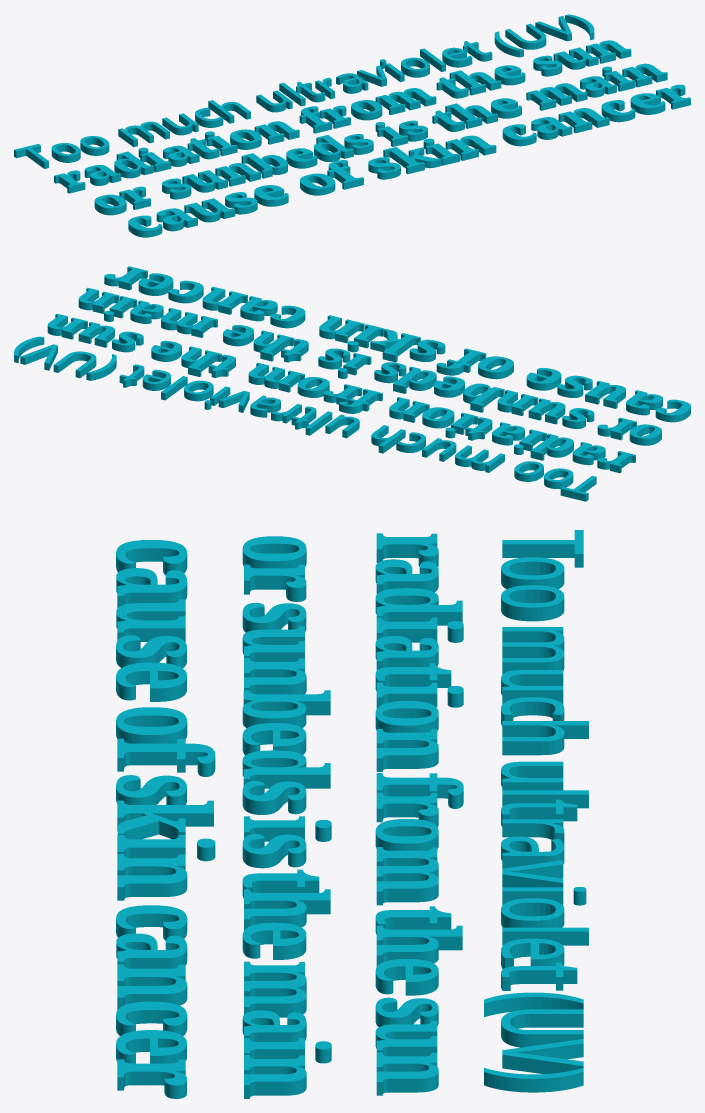
Rendered from Sunscreen_text.glb.
The picture shows the model from 3 angles, top to bottom: view 1: azimuth 30°, elevation 25°; view 2: azimuth 150°, elevation 25°; view 3: azimuth 270°, elevation 25°; orthographic projection. The views are drawn at different scales.
Parts seen in each view (by area): view 1: Mesh_Mesh_head_geo.001_lambert2SG.001; view 2: Mesh_Mesh_head_geo.001_lambert2SG.001; view 3: Mesh_Mesh_head_geo.001_lambert2SG.001.
Boxes of the visible parts, <box> form: Mesh_Mesh_head_geo.001_lambert2SG.001: <box>14,14,690,237</box>; Mesh_Mesh_head_geo.001_lambert2SG.001: <box>14,266,690,501</box>; Mesh_Mesh_head_geo.001_lambert2SG.001: <box>116,530,588,1098</box>.
Size of the model in its own units: 174 by 2.03 by 62.62.
